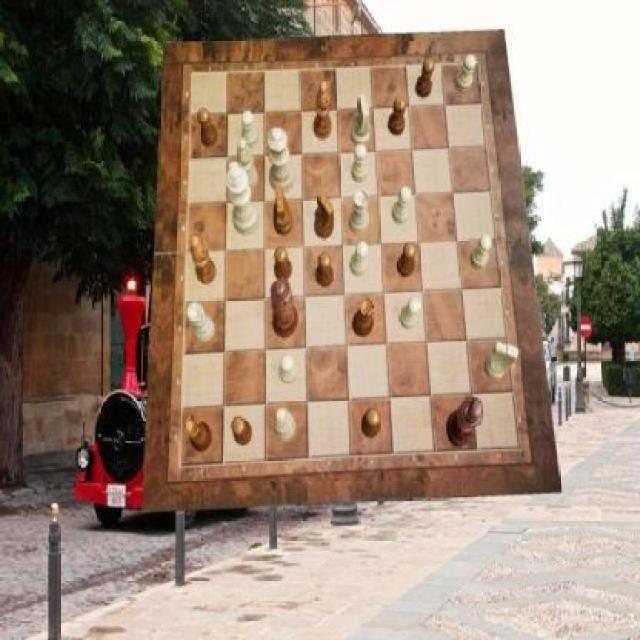bishop: (192, 236, 217, 284), (313, 82, 332, 140)
black-bishop: (448, 397, 484, 449)
black-king: (274, 184, 294, 236), (314, 192, 334, 240)
black-knight: (197, 108, 218, 146), (397, 242, 417, 278), (416, 58, 434, 98), (388, 97, 405, 135), (315, 252, 333, 287), (362, 408, 382, 438), (274, 248, 291, 282), (232, 417, 252, 445)
black-pawn: (271, 277, 298, 338)
black-queen: (185, 415, 212, 453), (352, 297, 376, 337)
black-rook: (237, 137, 258, 191), (274, 408, 296, 442)
white-bishop: (226, 162, 260, 236)
white-king: (485, 342, 520, 380), (351, 95, 371, 148)
white-knight: (455, 54, 478, 92), (469, 234, 492, 270), (398, 297, 421, 331), (392, 186, 412, 224), (352, 143, 370, 182), (351, 242, 368, 278), (242, 111, 258, 148), (278, 354, 298, 383)
white-pawn: (268, 128, 295, 194)
white-queen: (188, 303, 215, 343), (349, 189, 369, 235)
